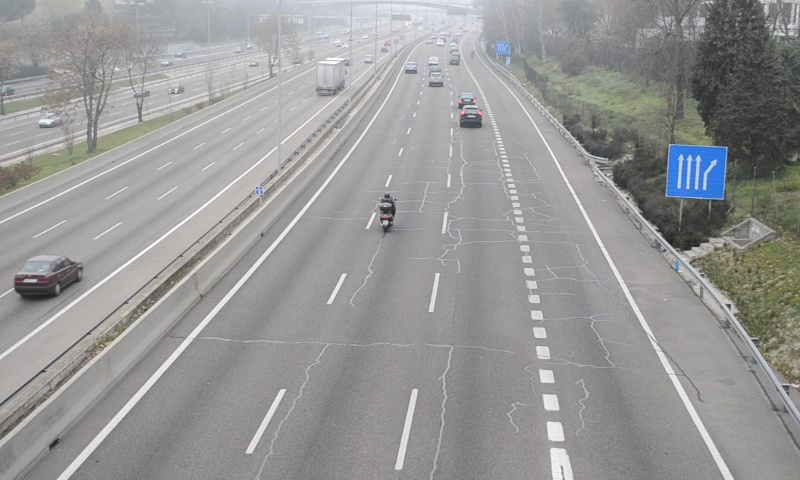car: (459, 105, 483, 126), (458, 92, 476, 106)
motorcycle: (376, 191, 396, 234)
